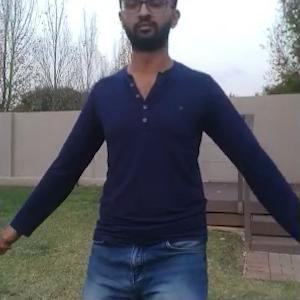land: (19, 8, 298, 299)
